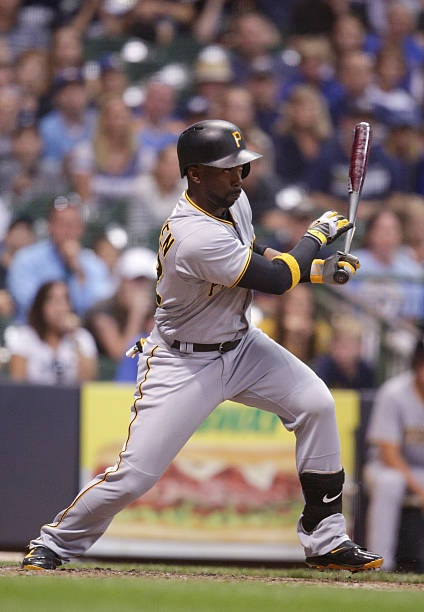bita: (343, 119, 375, 262)
